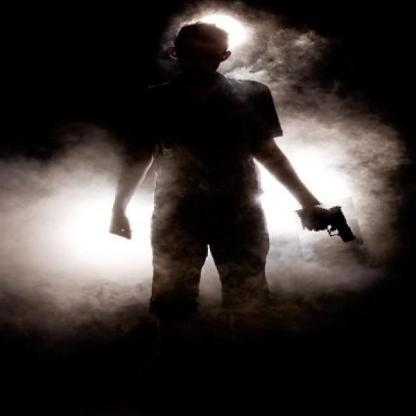handgun: (294, 200, 362, 256)
